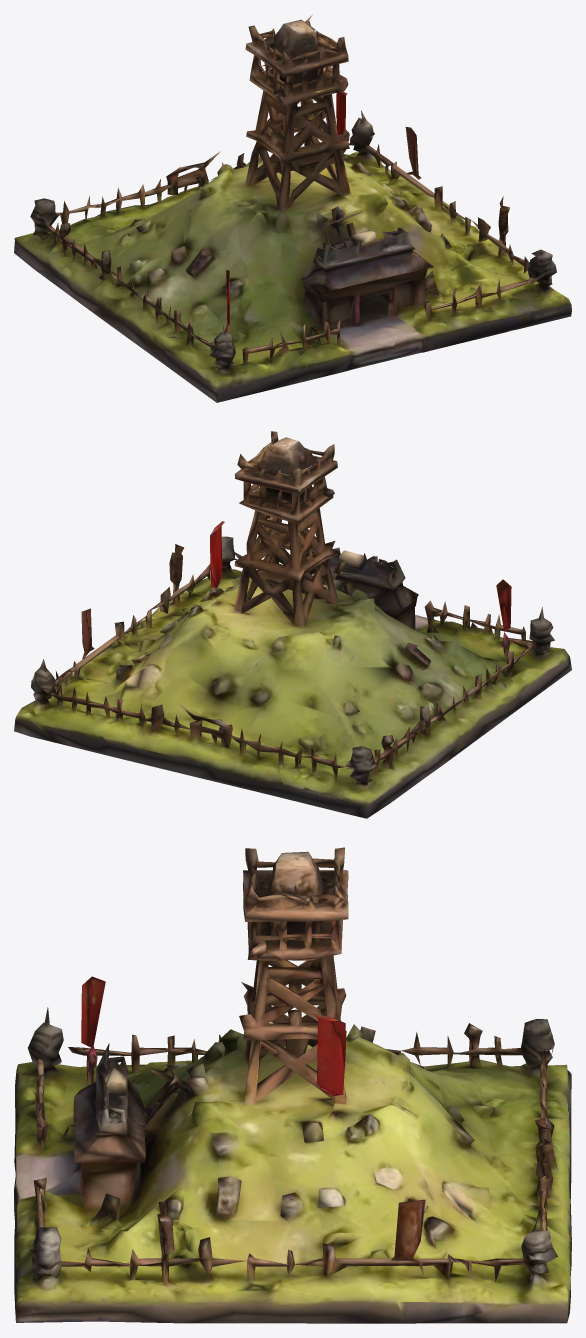
File: anc_fort.glb
3 views of the same model, one above another, from view 1: azimuth 30°, elevation 25°; view 2: azimuth 150°, elevation 25°; view 3: azimuth 270°, elevation 25° (orthographic). The views are drawn at different scales.
Parts seen in each view (by area): view 1: tripo_node_e3142da9-409e-4adc-8567-e5fb740fba42; view 2: tripo_node_e3142da9-409e-4adc-8567-e5fb740fba42; view 3: tripo_node_e3142da9-409e-4adc-8567-e5fb740fba42.
Part boxes in pixels (x1,y1,x2,y2): tripo_node_e3142da9-409e-4adc-8567-e5fb740fba42: (14,14,571,402); tripo_node_e3142da9-409e-4adc-8567-e5fb740fba42: (14,431,571,818); tripo_node_e3142da9-409e-4adc-8567-e5fb740fba42: (14,847,571,1323).
Bounding box in the file's own units: 0.9794 × 0.6754 × 0.9716.
Materials: 1 (1 with a texture image).
